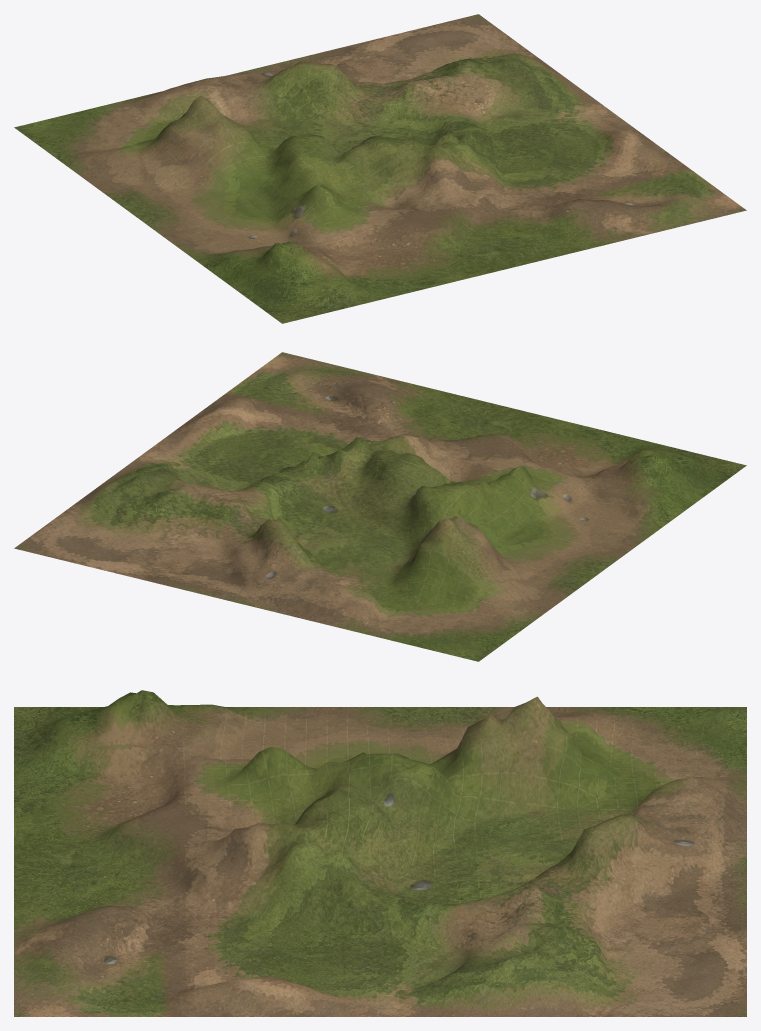
The model's file is terrain.glb.
The picture shows the model from 3 angles, top to bottom: view 1: azimuth 30°, elevation 25°; view 2: azimuth 150°, elevation 25°; view 3: azimuth 270°, elevation 25°; orthographic projection. The views are drawn at different scales.
Visible parts, largest first — view 1: Landscape.001; view 2: Landscape.001; view 3: Landscape.001.
Part boxes in pixels (x1,y1,x2,y2): Landscape.001: (14, 14, 746, 323); Landscape.001: (14, 352, 746, 661); Landscape.001: (14, 690, 746, 1016).
Size of the model in its own units: 32 by 3.99 by 32.
Materials: 1 (1 with a texture image).
